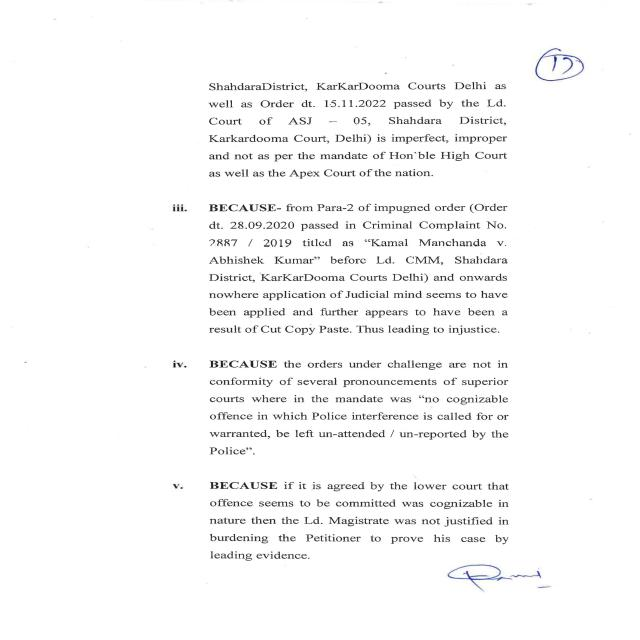page-number: (512, 15, 637, 134)
